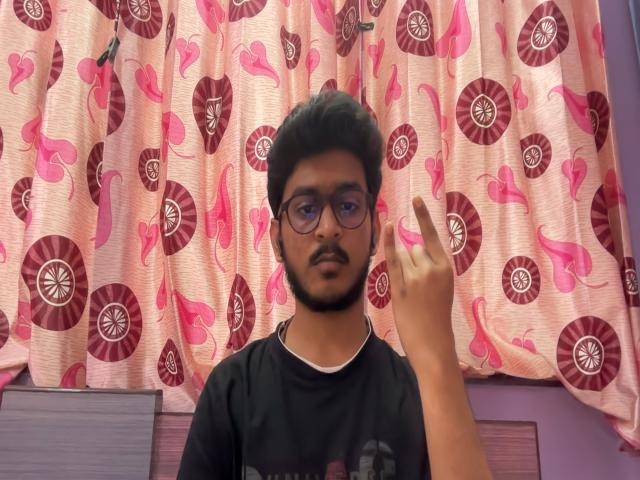I Love You: (374, 192, 486, 372)
